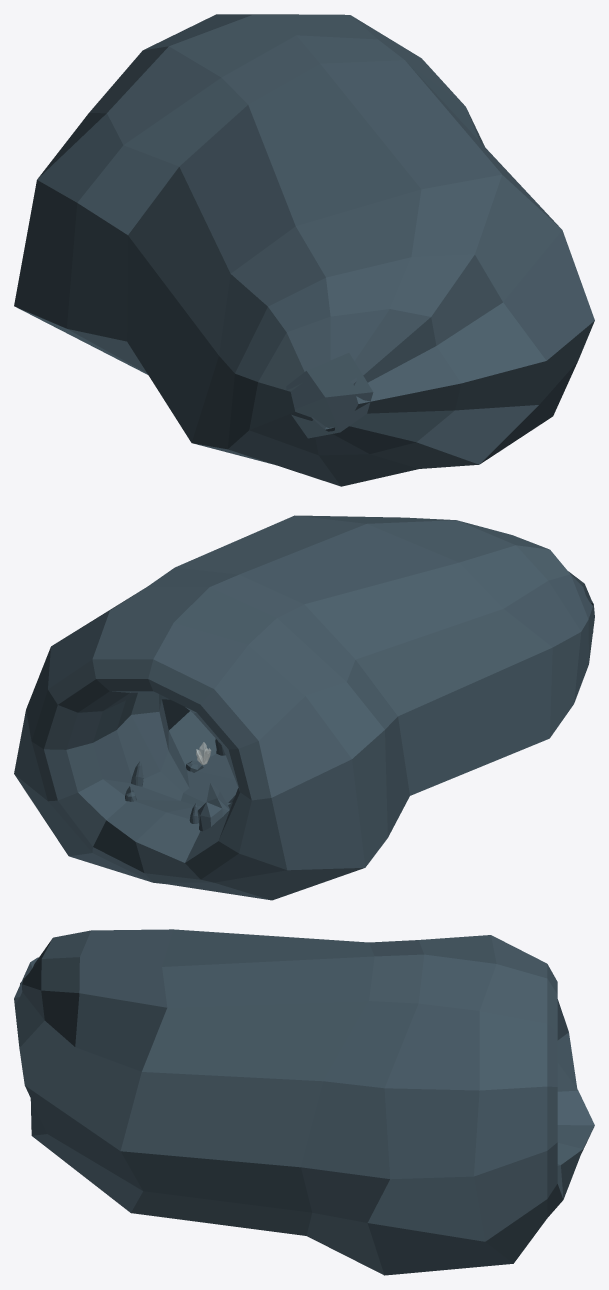
File: GameCave.fbx
The picture shows the model from 3 angles, top to bottom: view 1: azimuth 30°, elevation 25°; view 2: azimuth 150°, elevation 25°; view 3: azimuth 270°, elevation 25°; orthographic projection. The views are drawn at different scales.
Visible parts, largest first — view 1: group96187052; view 2: group96187052; view 3: group96187052.
Boxes of the visible parts, x1=… form: group96187052: x1=14, y1=14, x2=594, y2=486; group96187052: x1=14, y1=515, x2=594, y2=900; group96187052: x1=14, y1=929, x2=594, y2=1275.
Size of the model in its own units: 311 by 208 by 410.
